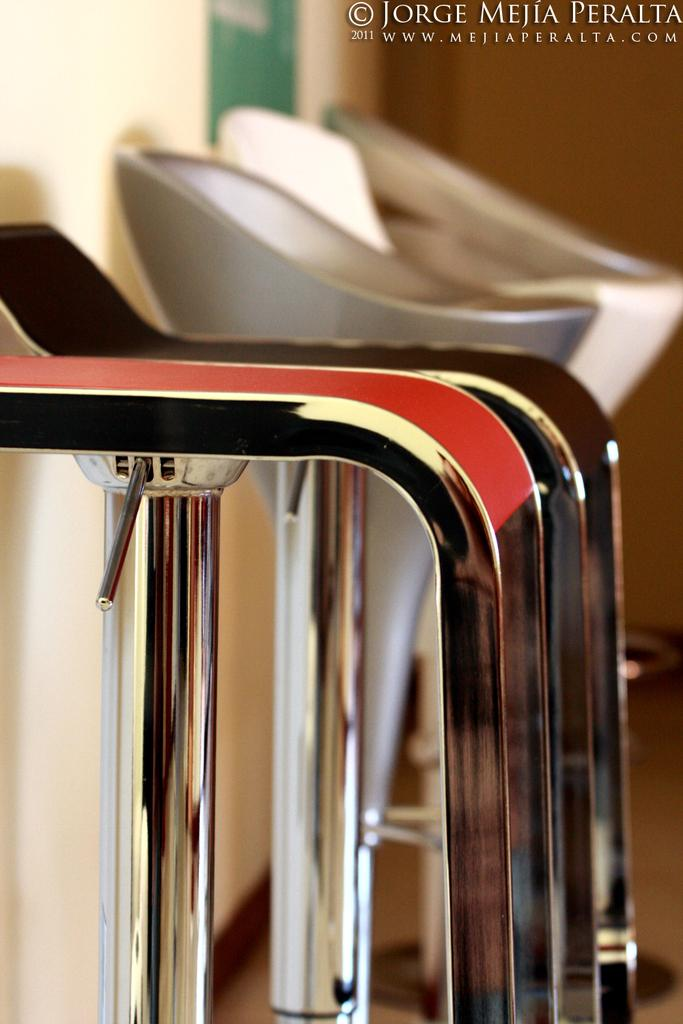Chair: (0, 216, 628, 1023), (211, 100, 677, 989), (323, 100, 682, 971)
